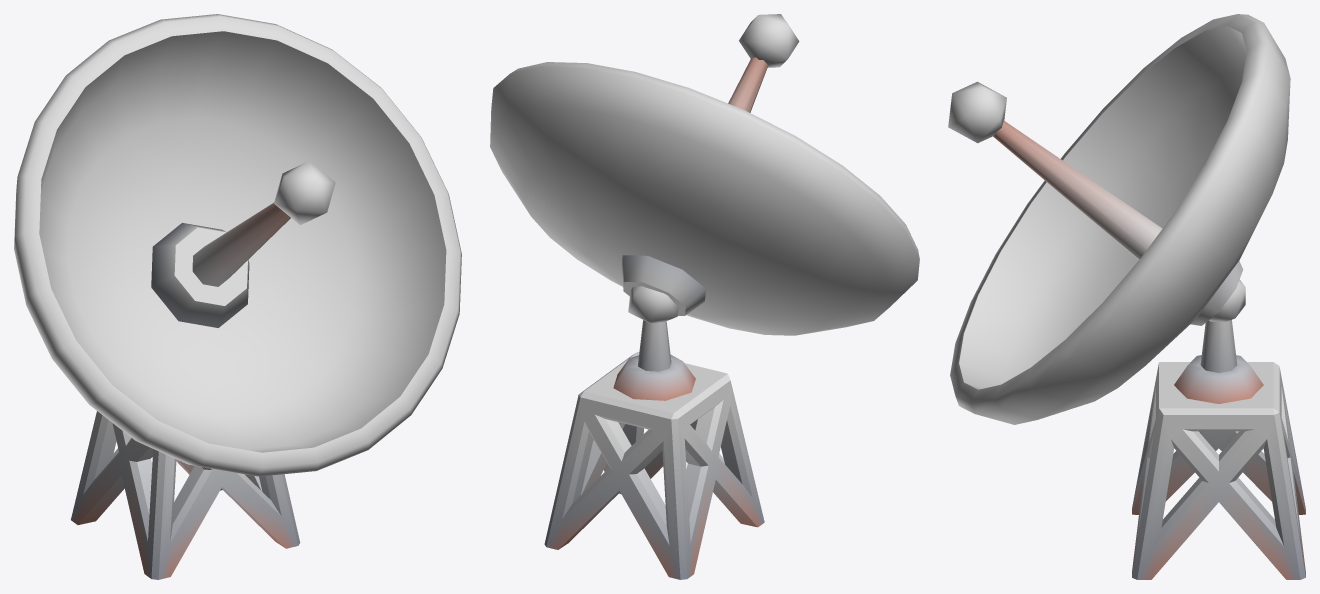
Rendered from NF_Prop_Satellite antenna.fbx.
3 renders of one model, left to right at view 1: azimuth 30°, elevation 25°; view 2: azimuth 150°, elevation 25°; view 3: azimuth 270°, elevation 25°, orthographic. The views are drawn at different scales.
Visible parts, largest first — view 1: Antena; view 2: Antena; view 3: Antena.
Boxes of the visible parts, <box> form: Antena: <box>14,14,461,579</box>; Antena: <box>490,14,919,579</box>; Antena: <box>948,14,1305,579</box>.
Bounding box in the file's own units: 2.65 × 2.98 × 1.93.
